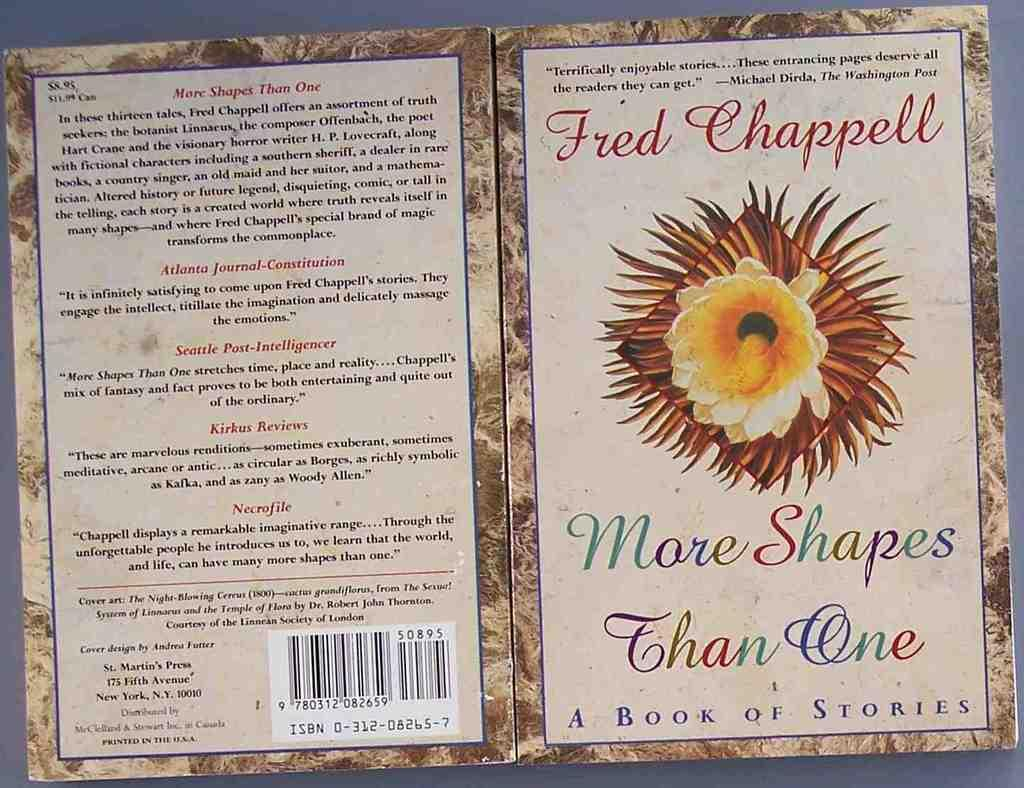book: (1, 1, 1015, 782)
